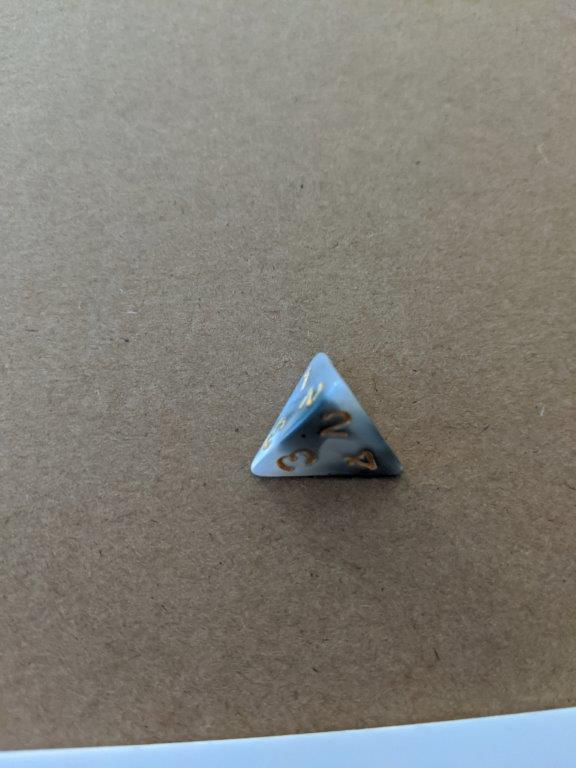d4-2: (244, 348, 408, 487)
